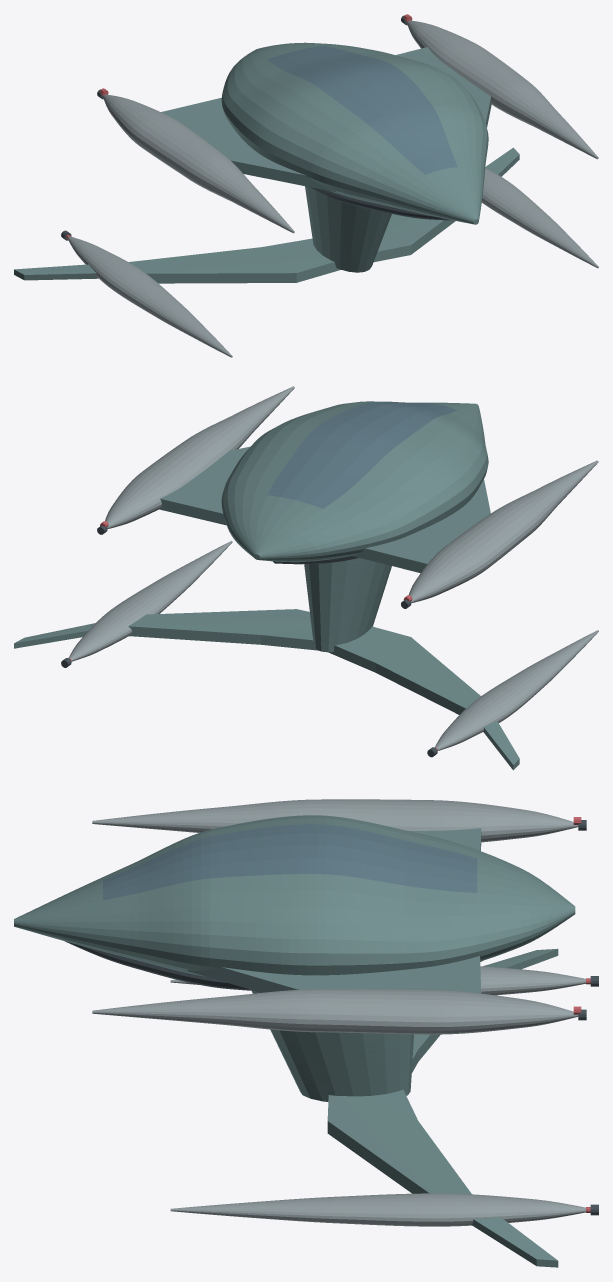
The model's file is arma_teal_off.glb.
3 views of the same model, one above another, from view 1: azimuth 30°, elevation 25°; view 2: azimuth 150°, elevation 25°; view 3: azimuth 270°, elevation 25° (orthographic). The views are drawn at different scales.
Parts seen in each view (by area): view 1: material_0, material_3, material_1, material_2; view 2: material_0, material_3, material_1, material_2; view 3: material_0, material_3, material_1, material_2.
Boxes of the visible parts, <box> form: material_0: <box>14,42,519,283</box>; material_3: <box>67,20,598,357</box>; material_1: <box>267,46,457,174</box>; material_2: <box>61,15,453,240</box>; material_0: <box>14,401,519,770</box>; material_3: <box>68,386,598,750</box>; material_1: <box>267,401,457,508</box>; material_2: <box>61,525,437,757</box>; material_0: <box>14,815,575,1267</box>; material_3: <box>92,799,585,1226</box>; material_1: <box>103,824,477,900</box>; material_2: <box>65,820,598,1215</box>.
Size of the model in its own units: 4.8 by 1.91 by 3.81.
